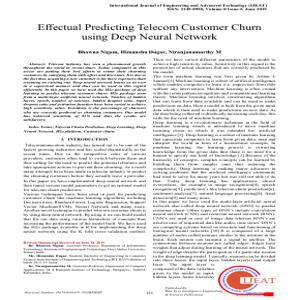image: (218, 263, 276, 300)
text: (151, 55, 277, 279), (20, 61, 146, 278), (36, 16, 263, 43), (73, 45, 225, 59), (106, 1, 269, 12)
